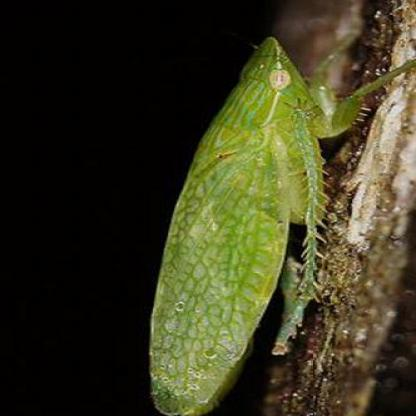green-leafhopper: (154, 38, 366, 414)
